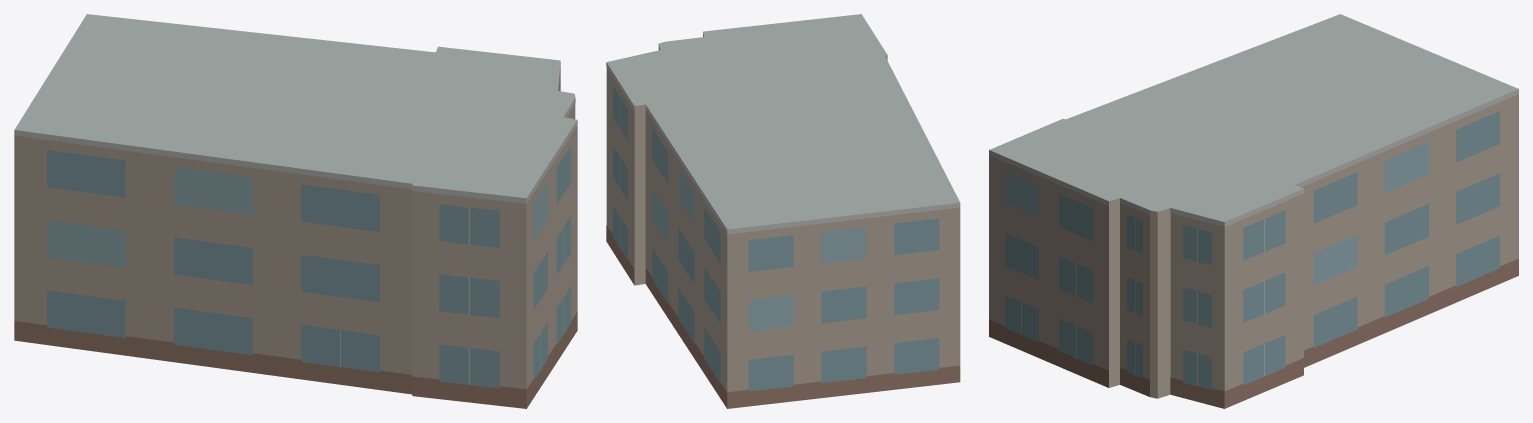
The model's file is survey-upis-32462539.glb.
3 renders of one model, left to right at view 1: azimuth 30°, elevation 25°; view 2: azimuth 150°, elevation 25°; view 3: azimuth 270°, elevation 25°, orthographic. The views are drawn at different scales.
Parts seen in each view (by area): view 1: survey-upis-32462539.tmp; view 2: survey-upis-32462539.tmp; view 3: survey-upis-32462539.tmp.
Boxes of the visible parts, <box> form: survey-upis-32462539.tmp: <box>14,14,577,408</box>; survey-upis-32462539.tmp: <box>606,14,960,408</box>; survey-upis-32462539.tmp: <box>989,14,1518,408</box>.
Bounding box in the file's own units: 21.87 × 9.15 × 23.53.
